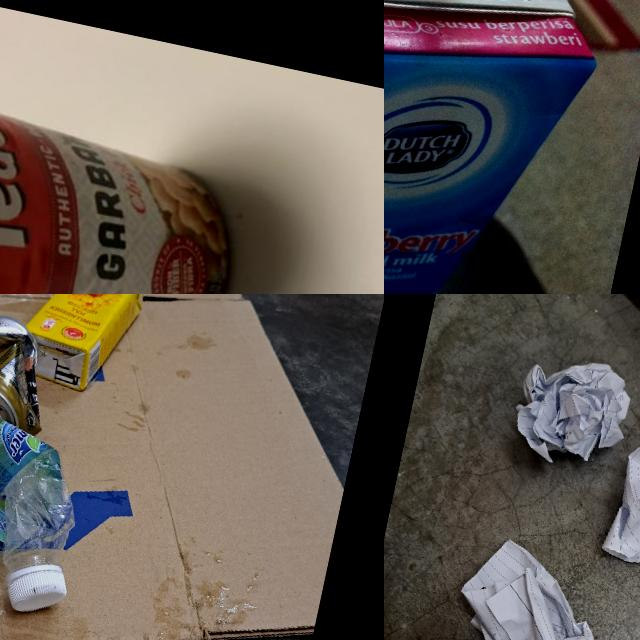caixinha: (384, 0, 616, 294), (14, 294, 150, 401)
garrafa plástica: (0, 395, 91, 583)
lata: (0, 79, 249, 294), (0, 309, 63, 444)
papel: (411, 528, 640, 640), (502, 342, 640, 478), (596, 391, 640, 632)
papelão: (0, 294, 384, 640)
tampa plástica: (1, 562, 70, 620)
